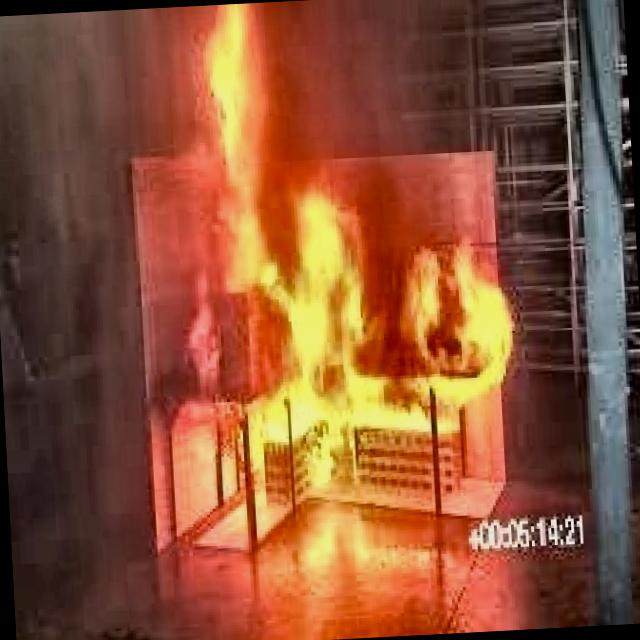fire: (95, 0, 541, 570)
